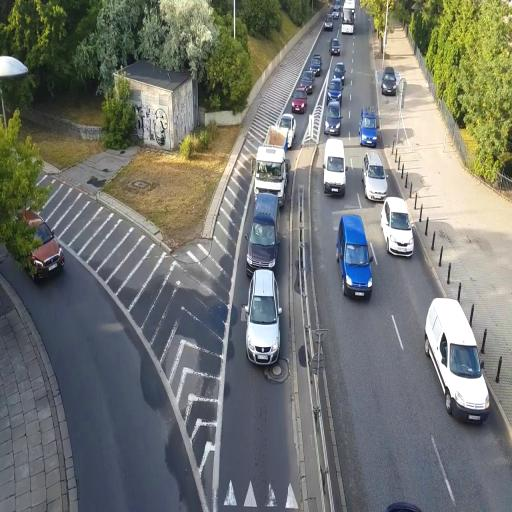vehicle: (424, 296, 490, 424), (245, 145, 286, 274), (245, 269, 281, 366), (336, 213, 374, 300), (245, 185, 281, 274), (380, 197, 414, 259), (254, 146, 287, 205), (323, 138, 347, 198), (363, 152, 388, 202), (359, 108, 379, 148), (278, 111, 296, 150), (381, 67, 398, 96), (292, 94, 306, 114), (310, 55, 322, 76), (330, 39, 342, 56), (325, 14, 335, 30)
